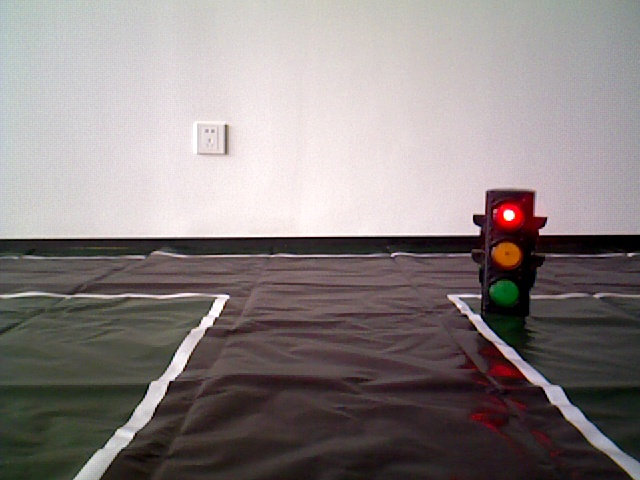red: (485, 190, 530, 307)
